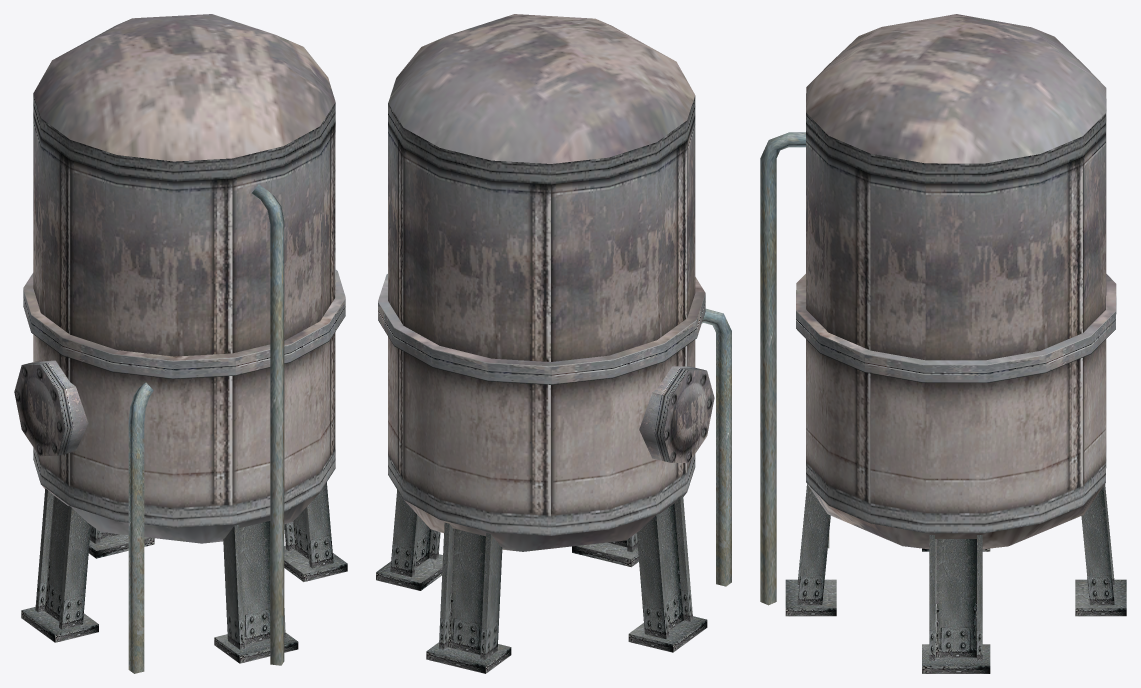
File: steeltank.fbx
3 renders of one model, left to right at view 1: azimuth 30°, elevation 25°; view 2: azimuth 150°, elevation 25°; view 3: azimuth 270°, elevation 25°, orthographic.
Visible parts, largest first — view 1: mesh_0, mesh_2, mesh_1, mesh_5, mesh_4, mesh_8, mesh_7, mesh_3, mesh_6; view 2: mesh_0, mesh_2, mesh_6, mesh_5, mesh_8, mesh_7, mesh_3, mesh_4; view 3: mesh_0, mesh_2, mesh_1, mesh_3, mesh_6, mesh_4.
Part boxes in pixels (box(x1,y1,x2,y2)): mesh_0: box(33, 14, 335, 543); mesh_2: box(23, 270, 345, 378); mesh_1: box(252, 184, 284, 665); mesh_5: box(21, 488, 98, 642); mesh_4: box(214, 521, 298, 663); mesh_8: box(14, 360, 88, 456); mesh_7: box(128, 382, 153, 673); mesh_3: box(284, 482, 347, 581); mesh_6: box(88, 525, 154, 558); mesh_0: box(388, 14, 695, 551); mesh_2: box(378, 274, 705, 384); mesh_6: box(426, 522, 511, 673); mesh_5: box(628, 496, 707, 652); mesh_8: box(639, 366, 714, 463); mesh_7: box(702, 308, 731, 586); mesh_3: box(376, 490, 442, 590); mesh_4: box(572, 533, 638, 567); mesh_0: box(806, 14, 1106, 549); mesh_2: box(796, 274, 1116, 382); mesh_1: box(760, 132, 805, 605); mesh_3: box(922, 535, 990, 673); mesh_6: box(1075, 484, 1126, 616); mesh_4: box(785, 484, 836, 616).
Size of the model in its own units: 251 by 451 by 269.
1 material, 1 textured.
